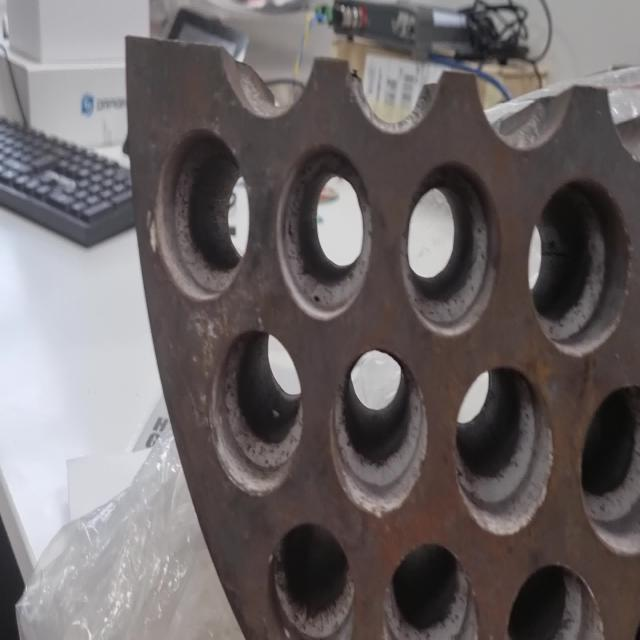Hole: (529, 173, 632, 357), (400, 156, 501, 338), (454, 363, 555, 537), (150, 126, 250, 301), (276, 143, 374, 320), (329, 346, 428, 518), (210, 328, 302, 496), (267, 520, 355, 640), (579, 385, 640, 557), (382, 541, 480, 639), (506, 562, 607, 640)
